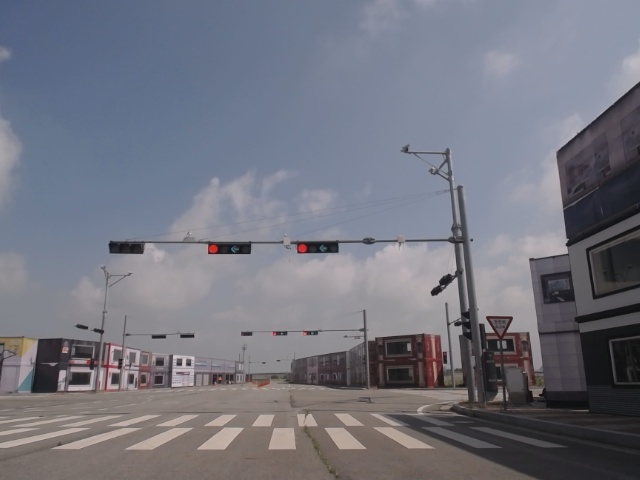left_green_4: (208, 242, 251, 254), (297, 242, 339, 254)
